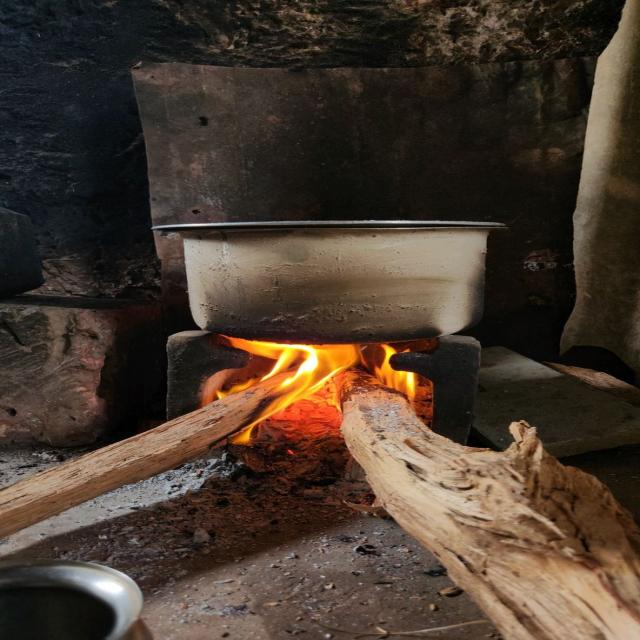fire: (219, 335, 418, 445)
